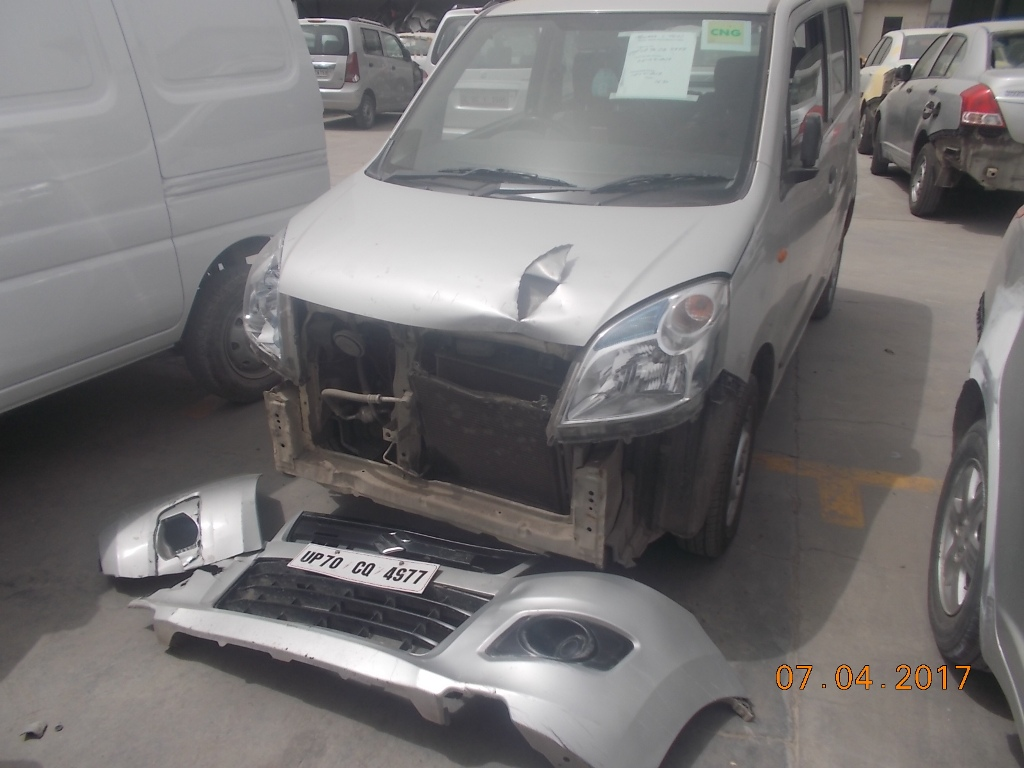Large_tear_or_damage: (217, 202, 742, 559)
